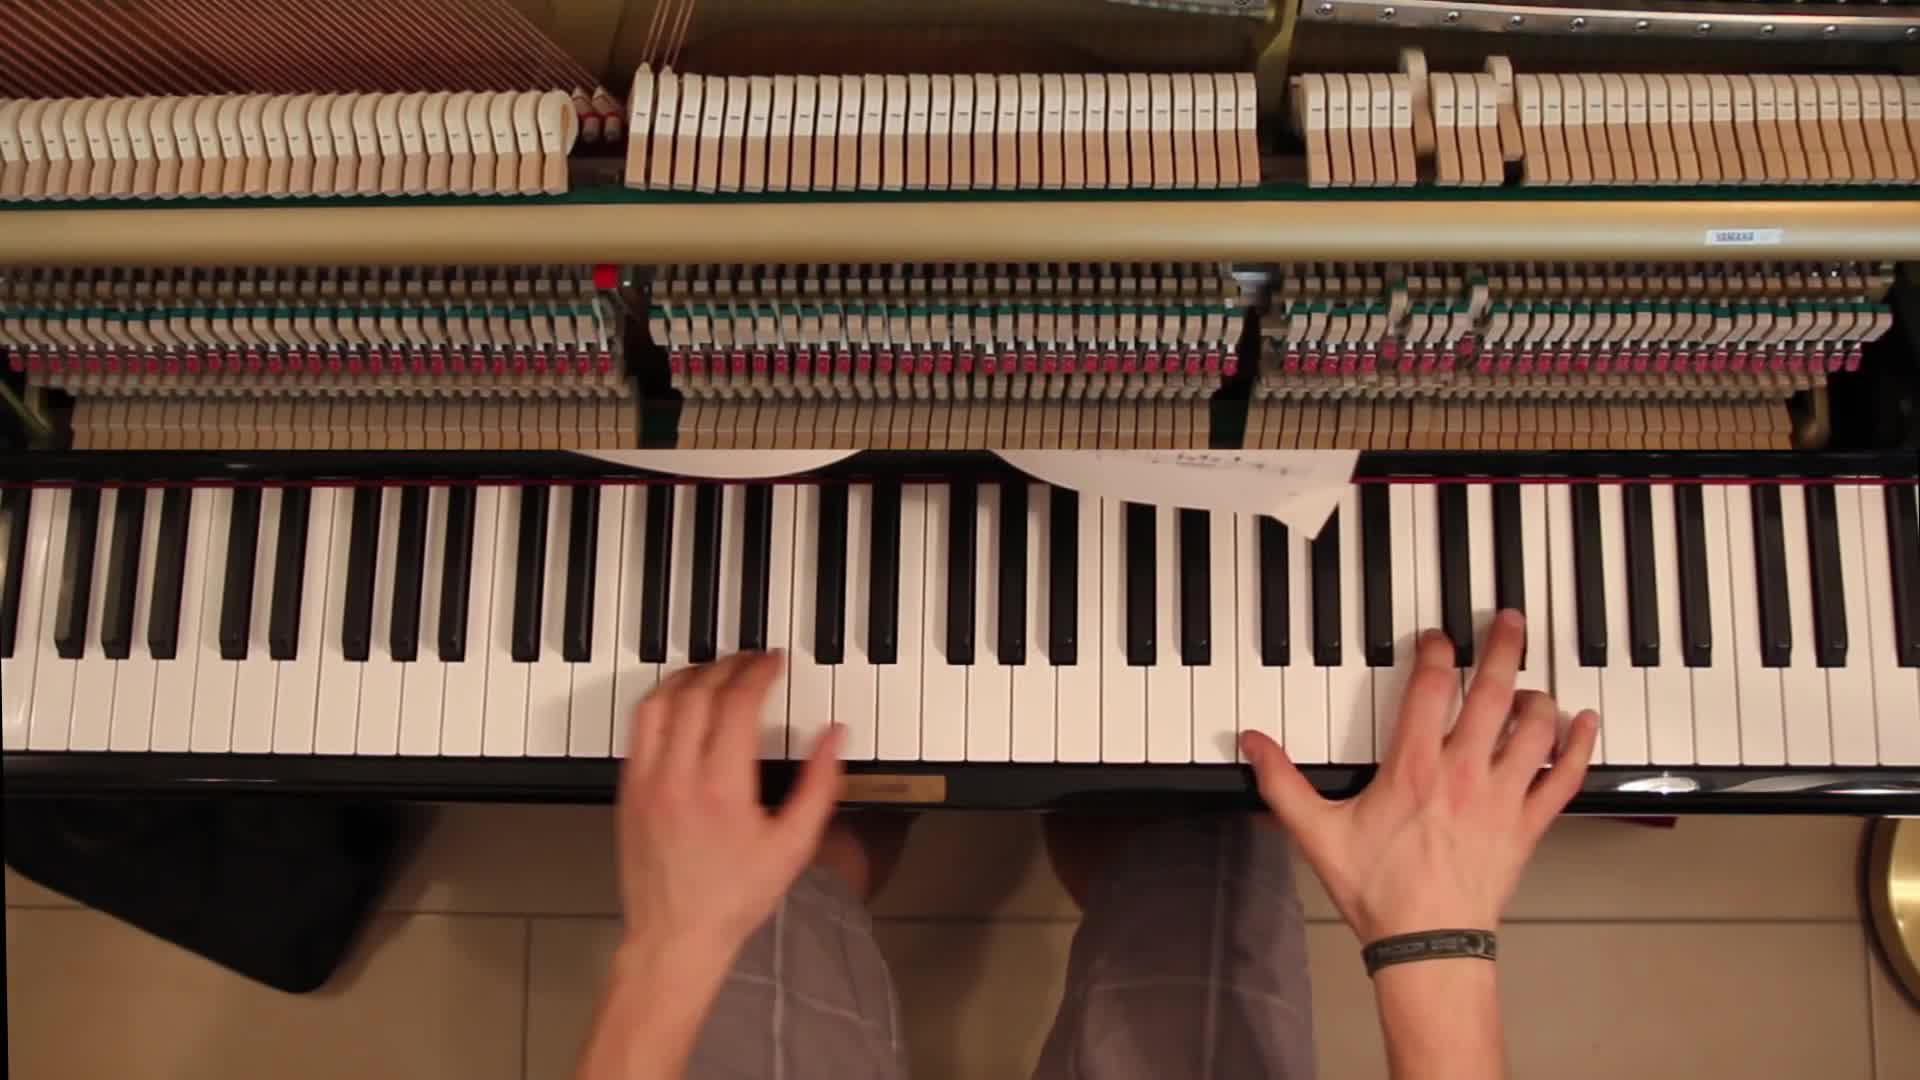left: (615, 637, 849, 955)
right: (1232, 605, 1604, 934)
